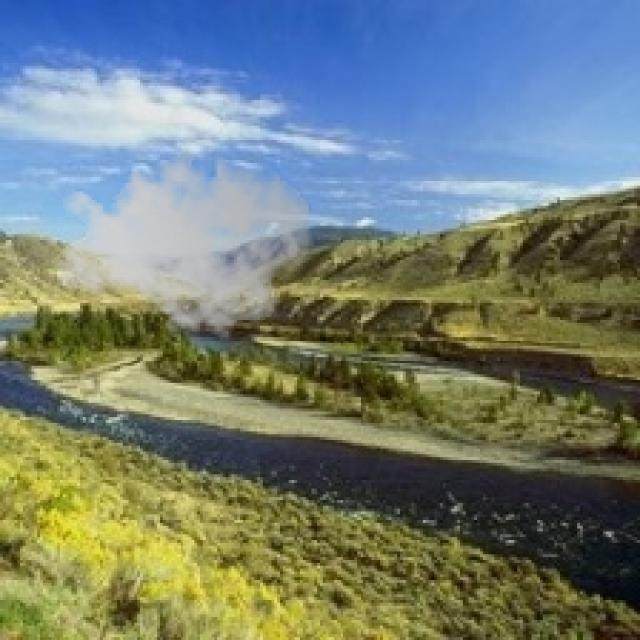Smoke: (52, 134, 314, 346)
